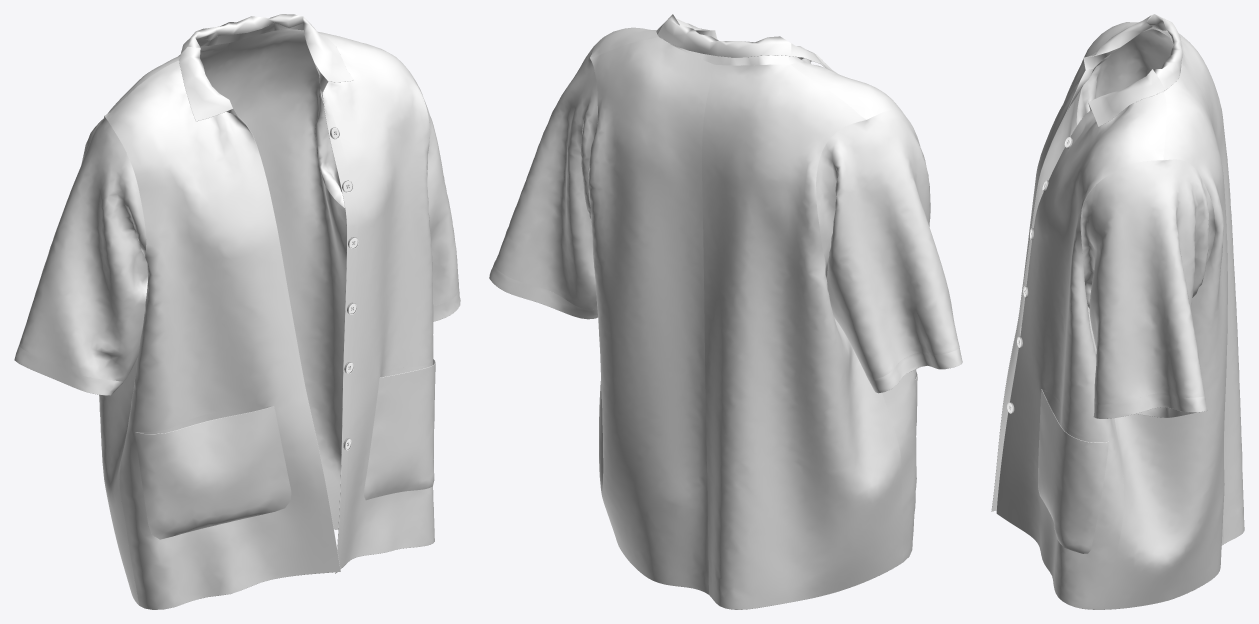
Rendered from FLG_111_0_0_00_2.fbx.
3 renders of one model, left to right at view 1: azimuth 30°, elevation 25°; view 2: azimuth 150°, elevation 25°; view 3: azimuth 270°, elevation 25°, orthographic. The views are drawn at different scales.
Parts seen in each view (by area): view 1: FLG_111_0_0_00_2; view 2: FLG_111_0_0_00_2; view 3: FLG_111_0_0_00_2.
Boxes of the visible parts, <box> form: FLG_111_0_0_00_2: <box>14,14,460,609</box>; FLG_111_0_0_00_2: <box>489,14,962,609</box>; FLG_111_0_0_00_2: <box>991,14,1244,609</box>.
Size of the model in its own units: 64.59 by 74.6 by 33.12.
